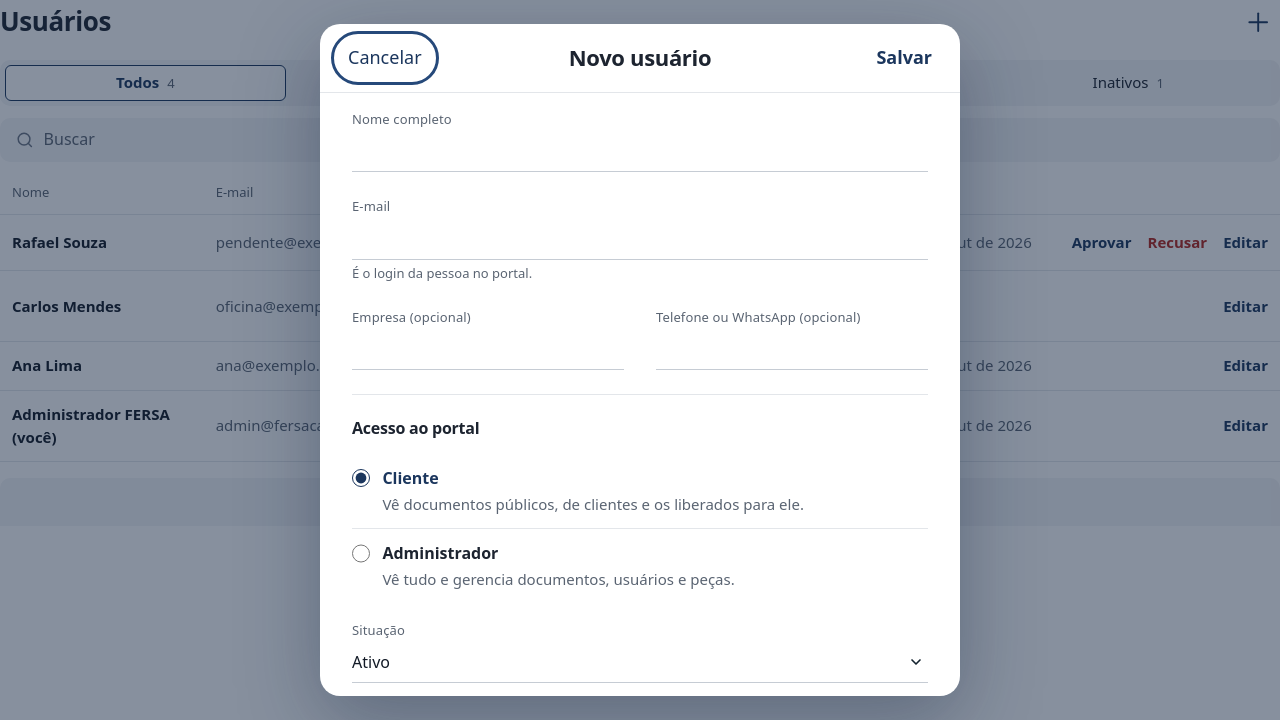
Test: Cadastro de usuário › e-mail repetido (409) aparece no topo
Step 1. Click the button "Salvar" → (904, 58), box x1=864 y1=36 x2=944 y2=80
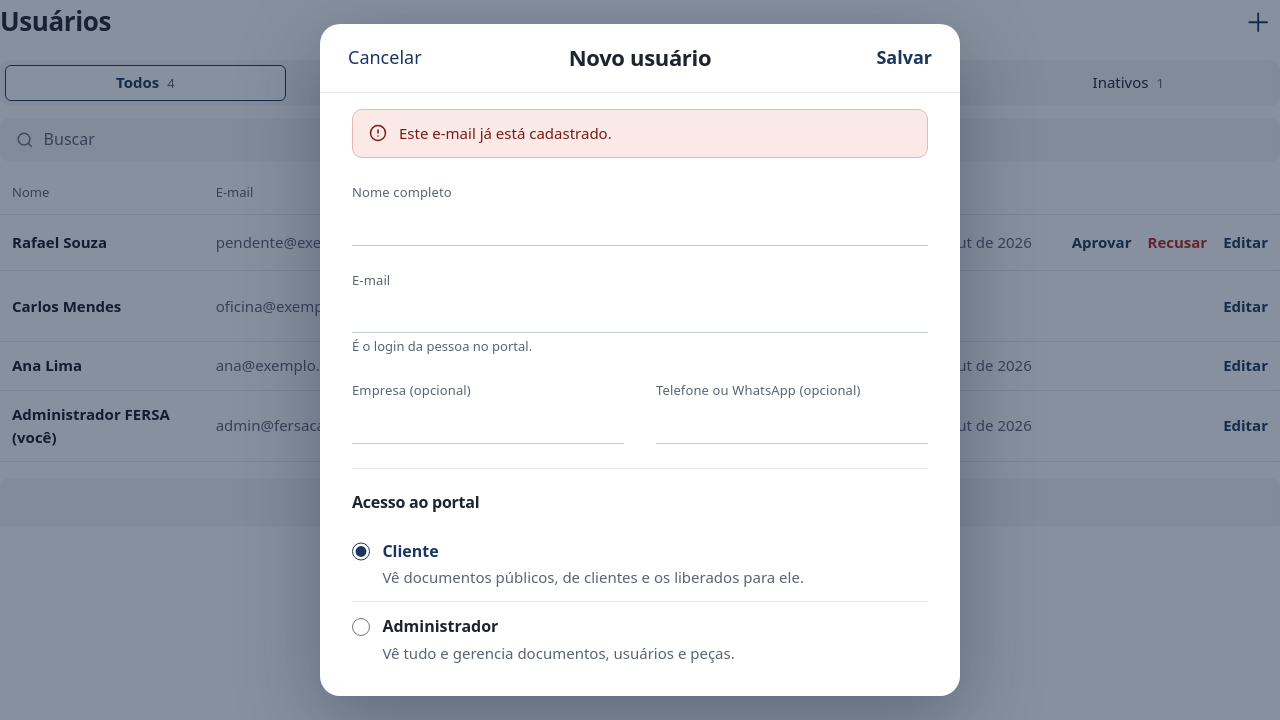
Expected: the text "Este e-mail já está cadastrado." is shown, x1=399 y1=122 x2=612 y2=145
